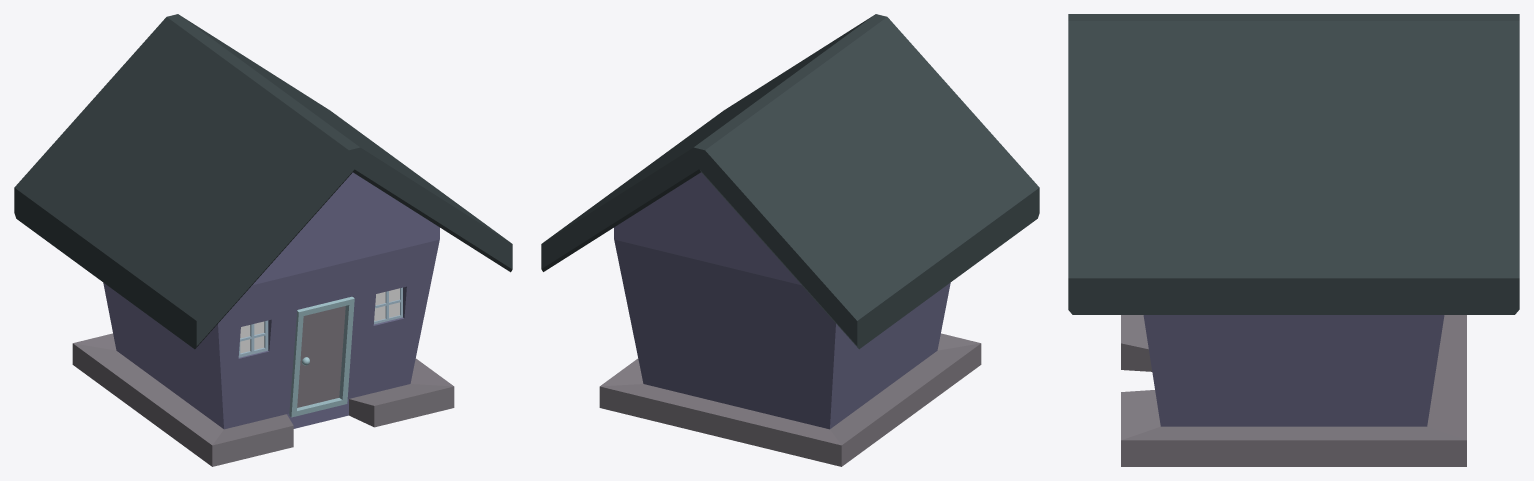
The model's file is HOUSE 1.fbx.
The picture shows the model from 3 angles, left to right: view 1: azimuth 30°, elevation 25°; view 2: azimuth 150°, elevation 25°; view 3: azimuth 270°, elevation 25°; orthographic projection. The views are drawn at different scales.
Visible parts, largest first — view 1: Roof, House, Door, Front Windows; view 2: Roof, House; view 3: Roof, House.
Boxes of the visible parts, x1=… form: Roof: x1=14, y1=14, x2=512, y2=349; House: x1=72, y1=172, x2=454, y2=466; Door: x1=289, y1=296, x2=354, y2=417; Front Windows: x1=238, y1=287, x2=402, y2=357; Roof: x1=541, y1=14, x2=1039, y2=349; House: x1=599, y1=172, x2=981, y2=466; Roof: x1=1068, y1=14, x2=1519, y2=314; House: x1=1121, y1=315, x2=1466, y2=466.
Size of the model in its own units: 1130 by 1040 by 1130.
